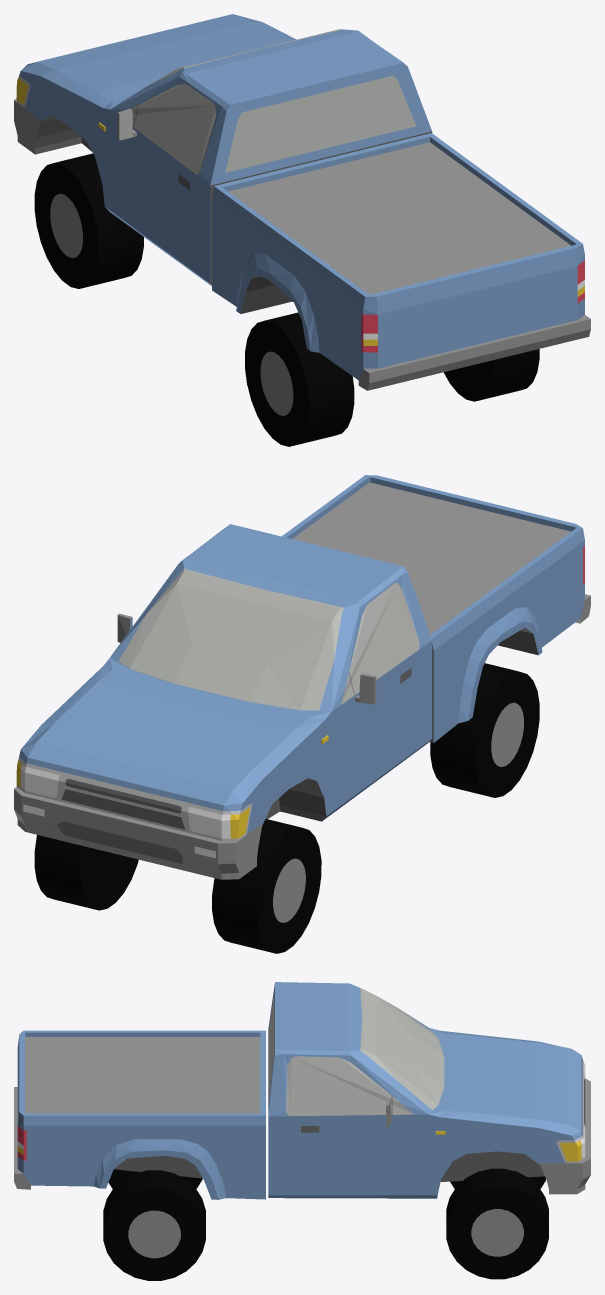
The picture shows the model from 3 angles, top to bottom: view 1: azimuth 30°, elevation 25°; view 2: azimuth 150°, elevation 25°; view 3: azimuth 270°, elevation 25°; orthographic projection. The views are drawn at different scales.
Visible parts, largest first — view 1: Mesh1 Model, Mesh5 Model, Mesh4 Model, Mesh2 Model; view 2: Mesh1 Model, Mesh4 Model, Mesh5 Model, Mesh3 Model; view 3: Mesh1 Model, Mesh3 Model, Mesh2 Model, Mesh5 Model.
Boxes of the visible parts, x1,y1,x2,y2 form: Mesh1 Model: [14, 14, 590, 390]; Mesh5 Model: [245, 312, 354, 446]; Mesh4 Model: [34, 153, 143, 288]; Mesh2 Model: [444, 349, 539, 401]; Mesh1 Model: [14, 475, 590, 879]; Mesh4 Model: [212, 819, 321, 953]; Mesh5 Model: [430, 663, 539, 797]; Mesh3 Model: [34, 835, 138, 910]; Mesh1 Model: [14, 982, 590, 1199]; Mesh3 Model: [446, 1168, 548, 1279]; Mesh2 Model: [103, 1170, 205, 1280]; Mesh5 Model: [108, 1169, 202, 1188].
Size of the model in its own units: 134 by 137 by 326.
